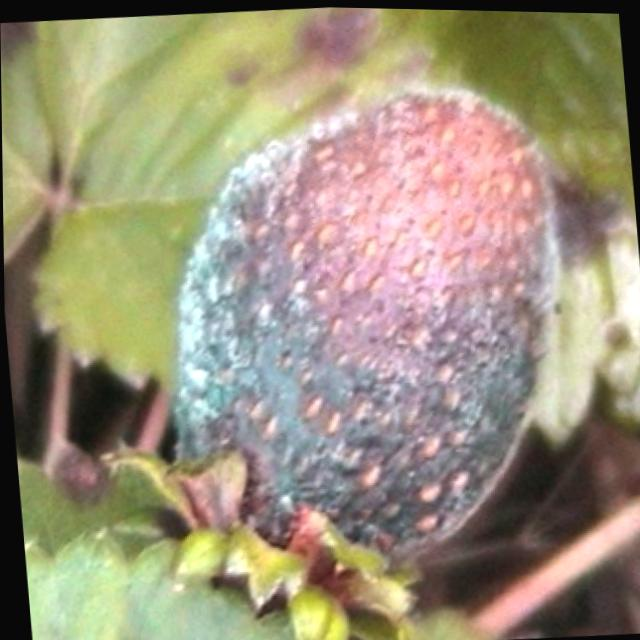Gray Mold: (172, 82, 557, 573)
